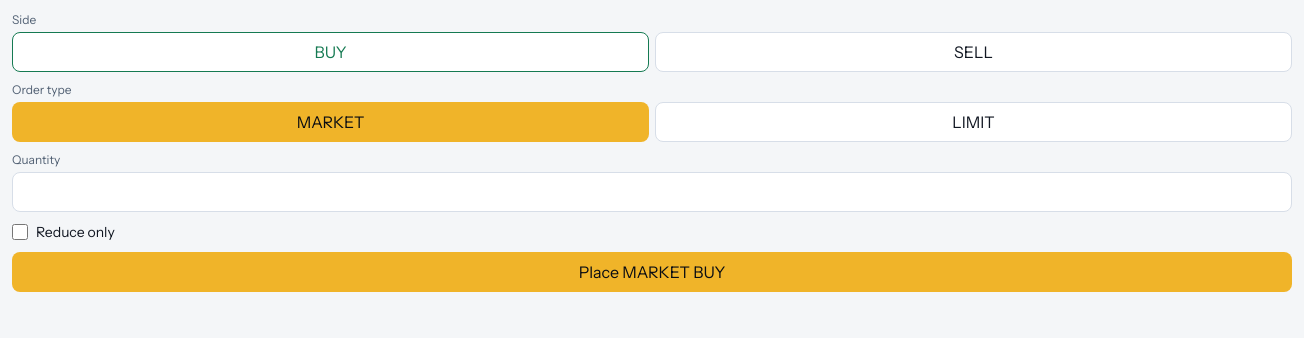
Test case: OrderForm › renders response status instead of inferring it from the request type
Type "0.001" into the field labelled "Quantity".
click(652, 192); type("0.001")  # box [12, 172, 1292, 212]
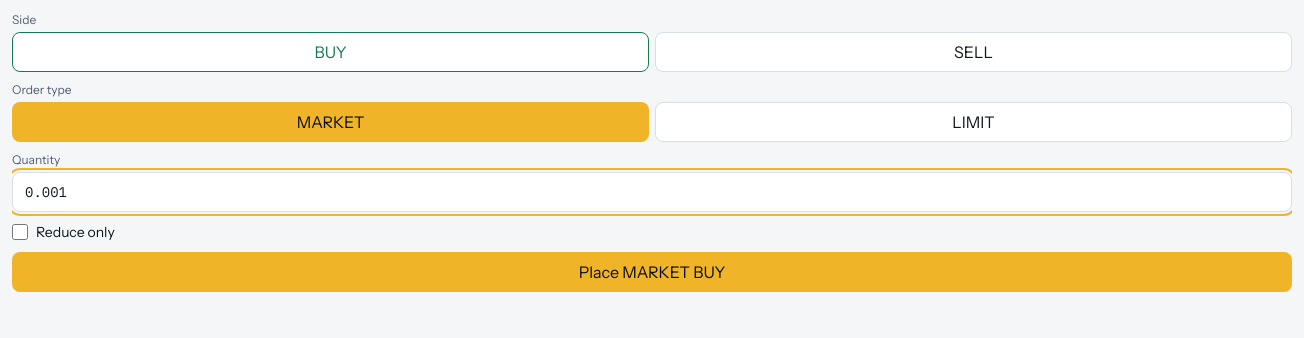
Click the button "Place MARKET BUY".
click(652, 272)  # box [12, 252, 1292, 292]
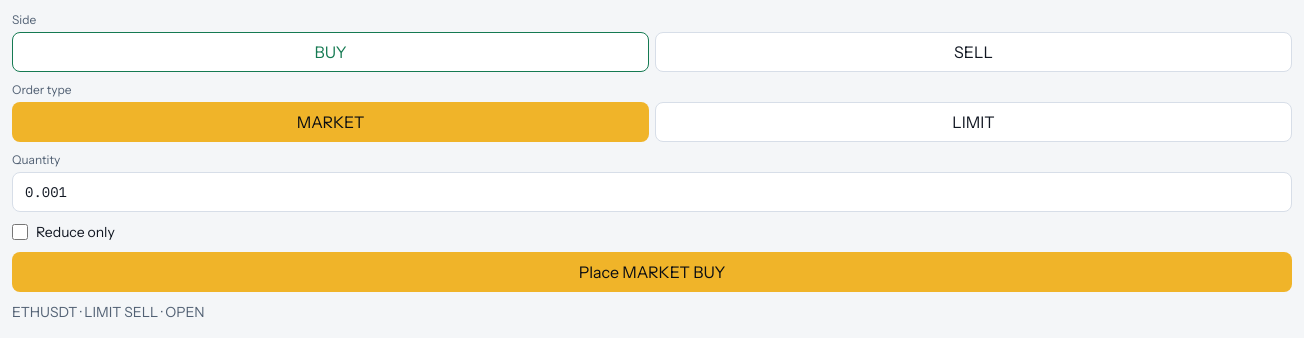
Expected: the text "BTCUSDT · MARKET BUY · FILLED" is not shown
Now the message reads "ETHUSDT · LIMIT SELL · OPEN", box [12, 303, 205, 321]
